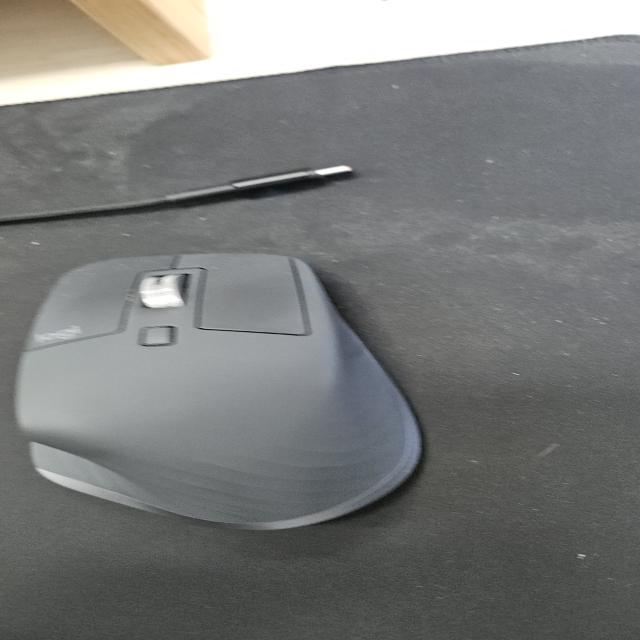Mouse: (11, 250, 426, 531)
